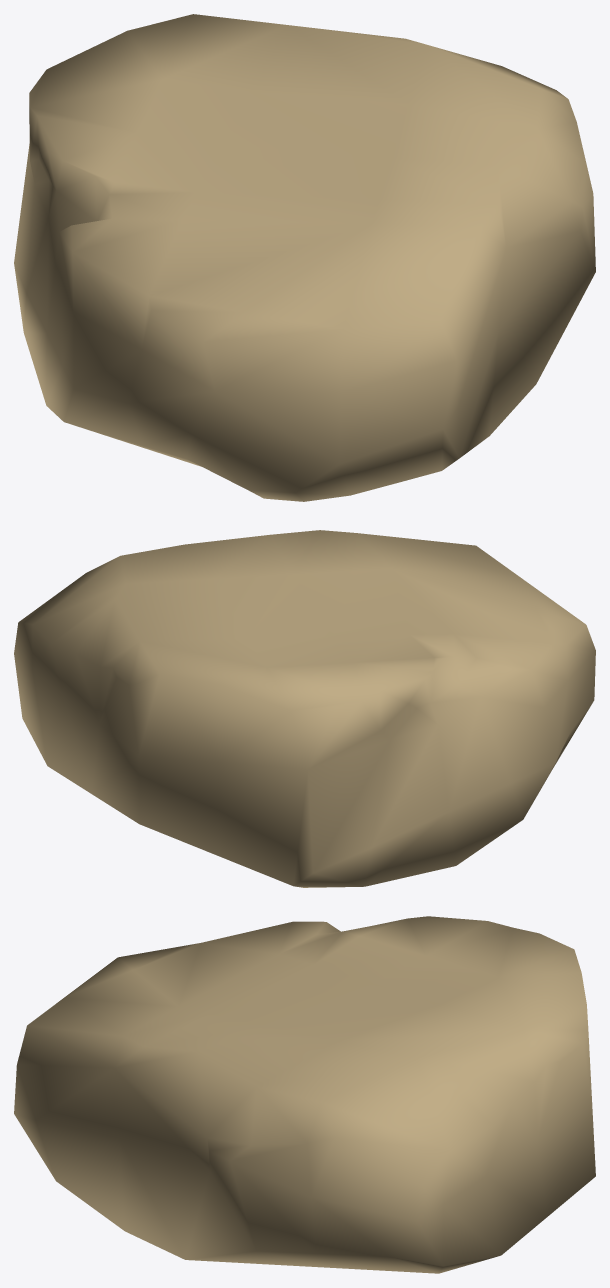
The model's file is rock_05_low.fbx.
The picture shows the model from 3 angles, top to bottom: view 1: azimuth 30°, elevation 25°; view 2: azimuth 150°, elevation 25°; view 3: azimuth 270°, elevation 25°; orthographic projection. The views are drawn at different scales.
Parts seen in each view (by area): view 1: rock_05_low; view 2: rock_05_low; view 3: rock_05_low.
Boxes of the visible parts, bbox=[...] form: rock_05_low: bbox=[14, 14, 595, 501]; rock_05_low: bbox=[14, 530, 595, 887]; rock_05_low: bbox=[14, 916, 595, 1273].
Size of the model in its own units: 190 by 81.17 by 188.
